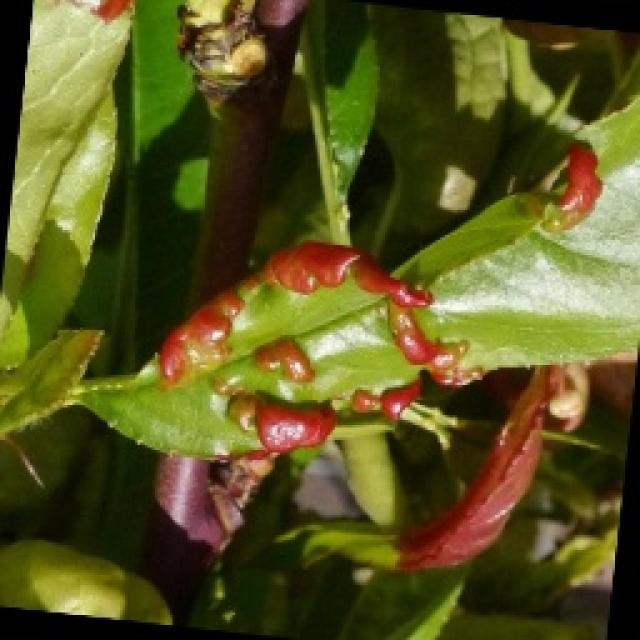peach_leaf_curl: (128, 238, 544, 508)
